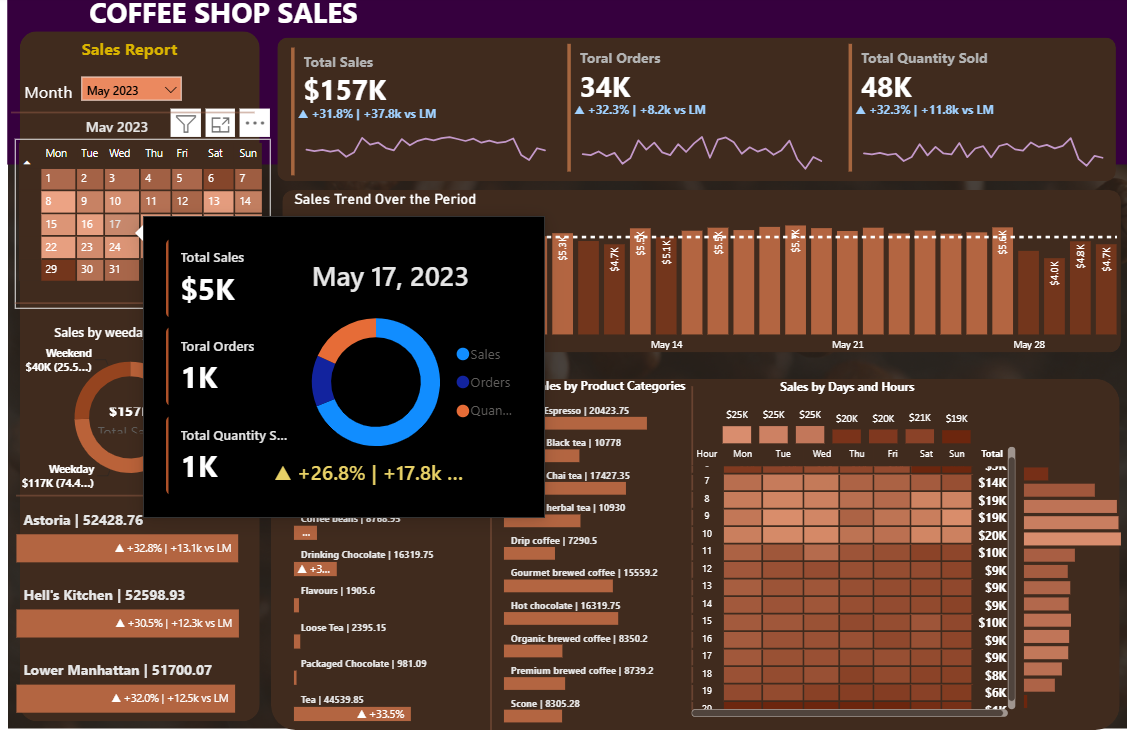

Layout of this report page (visuals, bound fields, positions):
{"tool":"powerbi","page":{"name":"Page 1","canvas":[1400,1100],"ordinal":0},"visuals":[{"type":"shape","box":[360,507.1,970,401.4],"z":0},{"type":"shape","box":[58.4,61.2,1280.4,200.8],"z":1000},{"type":"shape","box":[72.9,110,274.3,788.6],"z":2000},{"type":"shape","box":[367.1,117.1,958.6,164.3],"z":3000},{"type":"textbox","box":[146.7,61.2,343.2,61.2],"z":4000},{"type":"cardVisual","fields":{"Data":["Date Table.Total Quantity Sold"]},"box":[1004.1,108.2,254.7,178.7],"z":5000,"group":"g3"},{"type":"cardVisual","fields":{"Data":["Date Table.Toral Orders"]},"box":[682.9,108.6,254.7,178.7],"z":5000,"group":"g2"},{"type":"cardVisual","fields":{"Data":["Transactions.Total Sales"]},"box":[367.1,112.9,254.7,178.7],"z":5000,"group":"g1"},{"type":"slicer","fields":{"Values":["Date Table.Month Year"]},"box":[138.6,157.1,124.3,41.4],"z":5000},{"type":"group","id":"g1","title":"Group 1","box":[367.1,112.9,321.4,178.6],"z":6000},{"type":"lineChart","fields":{"Category":["Date Table.Date Hierarchy.Date"],"Y":["Date Table.Total Quantity Sold"]},"box":[1022.8,189.5,302.7,84],"z":6000,"group":"g3"},{"type":"lineChart","fields":{"Category":["Date Table.Date Hierarchy.Date"],"Y":["Date Table.Toral Orders"]},"box":[701.6,189.9,302.7,84],"z":6000,"group":"g2"},{"type":"lineChart","fields":{"Y":["Transactions.Total Sales"],"Category":["Date Table.Date Hierarchy.Date"]},"box":[385.8,194.2,302.7,84],"z":6000,"group":"g1"},{"type":"group","id":"g2","title":"Group 1","box":[682.9,108.6,321.4,177.1],"z":7000},{"type":"group","id":"g3","title":"Group 1","box":[1004.1,108.2,321.9,178],"z":8000},{"type":"pivotTable","fields":{"Rows":["Date Table.Week Number"],"Columns":["Date Table.Day Name"],"Values":["Min(Date Table.Day Number)"]},"box":[67.1,232.9,292.9,194.3],"z":9000},{"type":"cardVisual","fields":{"Rows":["Date Table.Month Year"]},"box":[131.4,181.4,161.4,85.7],"z":10000},{"type":"shape","box":[67.1,398.6,278.6,44.3],"z":11000},{"type":"shape","box":[62.9,181.4,278.6,42.9],"z":12000},{"type":"donutChart","title":"Sales by weeday/weekend","fields":{"Y":["Transactions.Total Sales"],"Category":["Date Table.weeday/weekend"]},"box":[47.1,442.9,304.3,197.1],"z":13000},{"type":"cardVisual","fields":{"Data":["Transactions.Total Sales"]},"box":[131.4,522.9,134.3,64.3],"z":14000},{"type":"shape","box":[68.6,618.6,278.6,44.3],"z":15000},{"type":"clusteredBarChart","fields":{"Category":["Transactions.store_location"],"Y":["Date Table.placeholder","Transactions.Total Sales"]},"box":[64.3,640,300,258.6],"z":16000},{"type":"shape","box":[372.9,291.4,958.6,185.7],"z":17000},{"type":"columnChart","title":"Sales Trend Over the Period","fields":{"Category":["Transactions.transaction_date"],"Y":["Transactions.Total Sales"]},"box":[381.4,291.4,957.1,194.3],"z":18000},{"type":"clusteredBarChart","title":"Sales by Product Categories","fields":{"Y":["Date Table.placeholder","Transactions.Total Sales"],"Category":["Transactions.product_category"]},"box":[381.4,504.3,250,400],"z":19000},{"type":"shape","box":[581.4,501.4,60,407.1],"z":19001},{"type":"clusteredBarChart","title":"Sales by Product Categories","fields":{"Y":["Date Table.placeholder","Transactions.Total Sales"],"Category":["Transactions.product_type"]},"box":[621.4,505.7,250,400],"z":19002},{"type":"shape","box":[811.4,515.7,60,370],"z":19003},{"type":"pivotTable","fields":{"Rows":["Transactions.Hour"],"Columns":["Date Table.Day Name"],"Values":["Transactions.Total Sales"]},"box":[835.7,580,380,318.6],"z":19004},{"type":"barChart","fields":{"Category":["Transactions.Hour"],"Y":["Transactions.Total Sales"]},"box":[1215.7,595.7,122.9,292.9],"z":19005},{"type":"columnChart","title":"Sales by Days and Hours","fields":{"Category":["Date Table.Day Name"],"Y":["Transactions.Total Sales"]},"box":[871.4,507.1,294.3,80],"z":19006},{"type":"textbox","box":[72.9,161.4,121.4,50],"z":19007},{"type":"textbox","box":[138.6,112.9,171.4,61.4],"z":19008}]}

Visuals, with their boxes on the page's 1400x1100 design canvas (x1, y1, x2, y2). These are canvas units, not pixel positions in the 1127x730 screenshot, which may show the page scaled, cropped or inside an application window:
shape: [360,507,1330,908]
shape: [58,61,1339,262]
shape: [73,110,347,899]
shape: [367,117,1326,281]
textbox: [147,61,490,122]
cardVisual - Date Table.Total Quantity Sold: [1004,108,1259,287]
cardVisual - Date Table.Toral Orders: [683,109,938,287]
cardVisual - Transactions.Total Sales: [367,113,622,292]
slicer - Date Table.Month Year: [139,157,263,198]
"Group 1" group: [367,113,688,292]
lineChart - Date Table.Date Hierarchy.Date x Date Table.Total Quantity Sold: [1023,190,1326,274]
lineChart - Date Table.Date Hierarchy.Date x Date Table.Toral Orders: [702,190,1004,274]
lineChart - Transactions.Total Sales x Date Table.Date Hierarchy.Date: [386,194,688,278]
"Group 1" group: [683,109,1004,286]
"Group 1" group: [1004,108,1326,286]
pivotTable - Date Table.Week Number x Date Table.Day Name: [67,233,360,427]
cardVisual - Date Table.Month Year: [131,181,293,267]
shape: [67,399,346,443]
shape: [63,181,342,224]
"Sales by weeday/weekend" donutChart: [47,443,351,640]
cardVisual - Transactions.Total Sales: [131,523,266,587]
shape: [69,619,347,663]
clusteredBarChart - Transactions.store_location x Date Table.placeholder: [64,640,364,899]
shape: [373,291,1332,477]
"Sales Trend Over the Period" columnChart: [381,291,1338,486]
"Sales by Product Categories" clusteredBarChart: [381,504,631,904]
shape: [581,501,641,908]
"Sales by Product Categories" clusteredBarChart: [621,506,871,906]
shape: [811,516,871,886]
pivotTable - Transactions.Hour x Date Table.Day Name: [836,580,1216,899]
barChart - Transactions.Hour x Transactions.Total Sales: [1216,596,1339,889]
"Sales by Days and Hours" columnChart: [871,507,1166,587]
textbox: [73,161,194,211]
textbox: [139,113,310,174]
